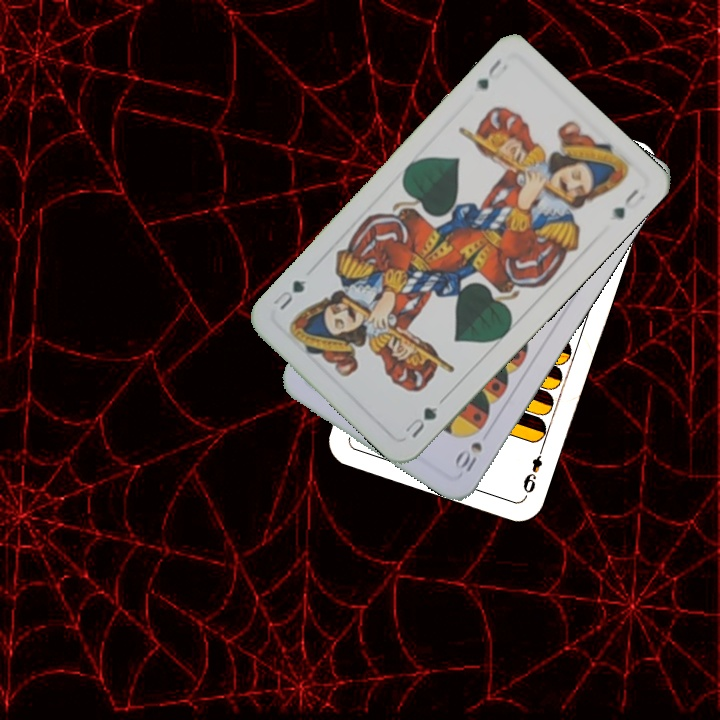E9: (519, 441, 547, 496)
GU: (401, 402, 441, 441), (471, 54, 505, 93)
S10: (450, 437, 485, 477)
